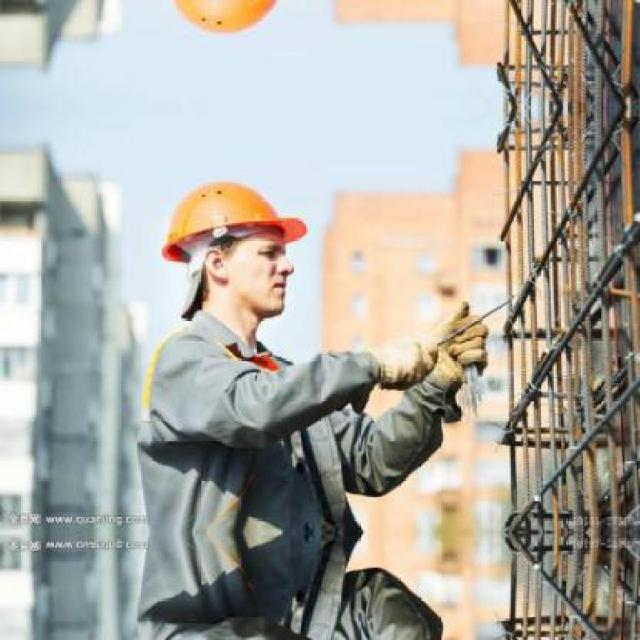helmet: (153, 158, 310, 332), (152, 0, 310, 55)
